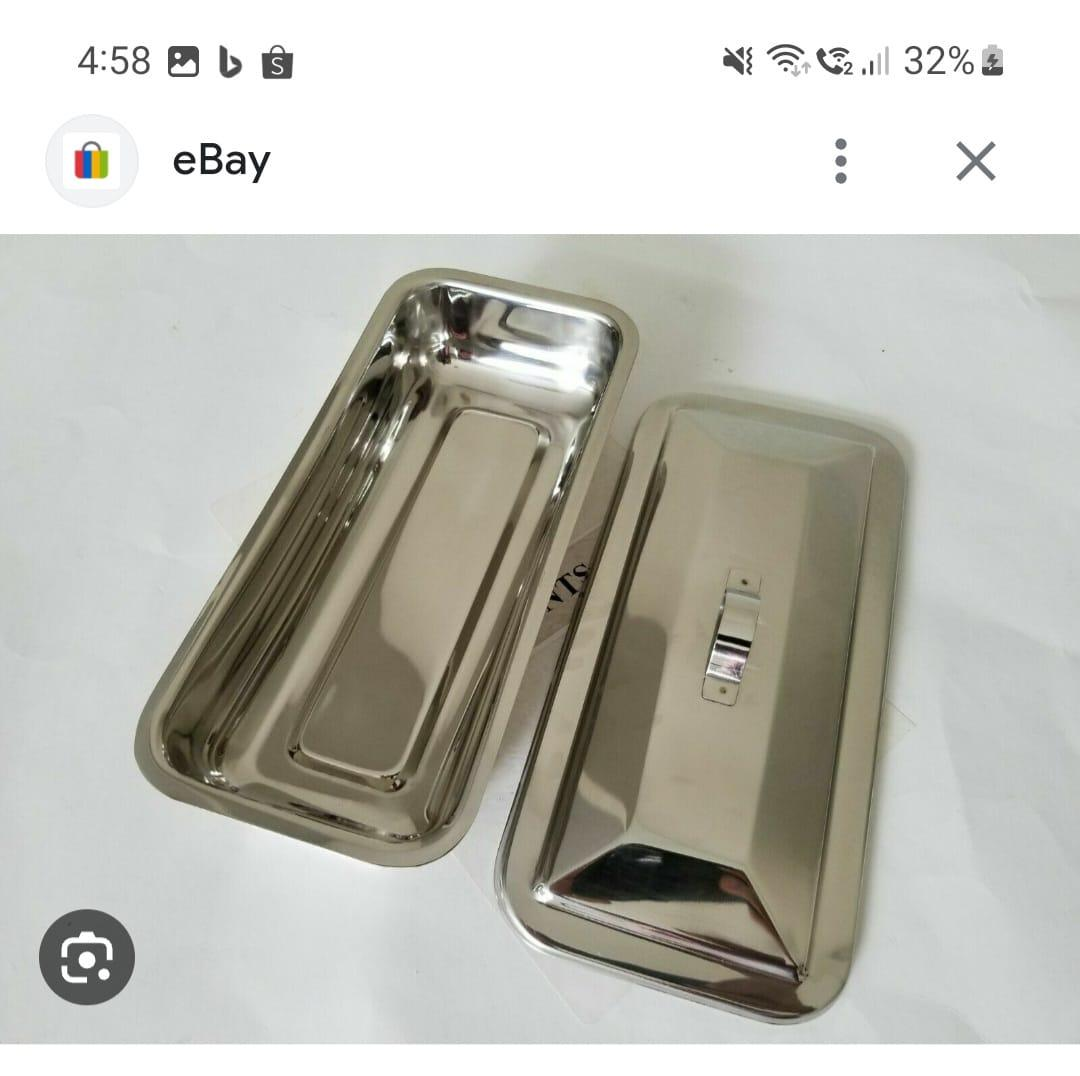Catheter Tray: (120, 258, 648, 870)
